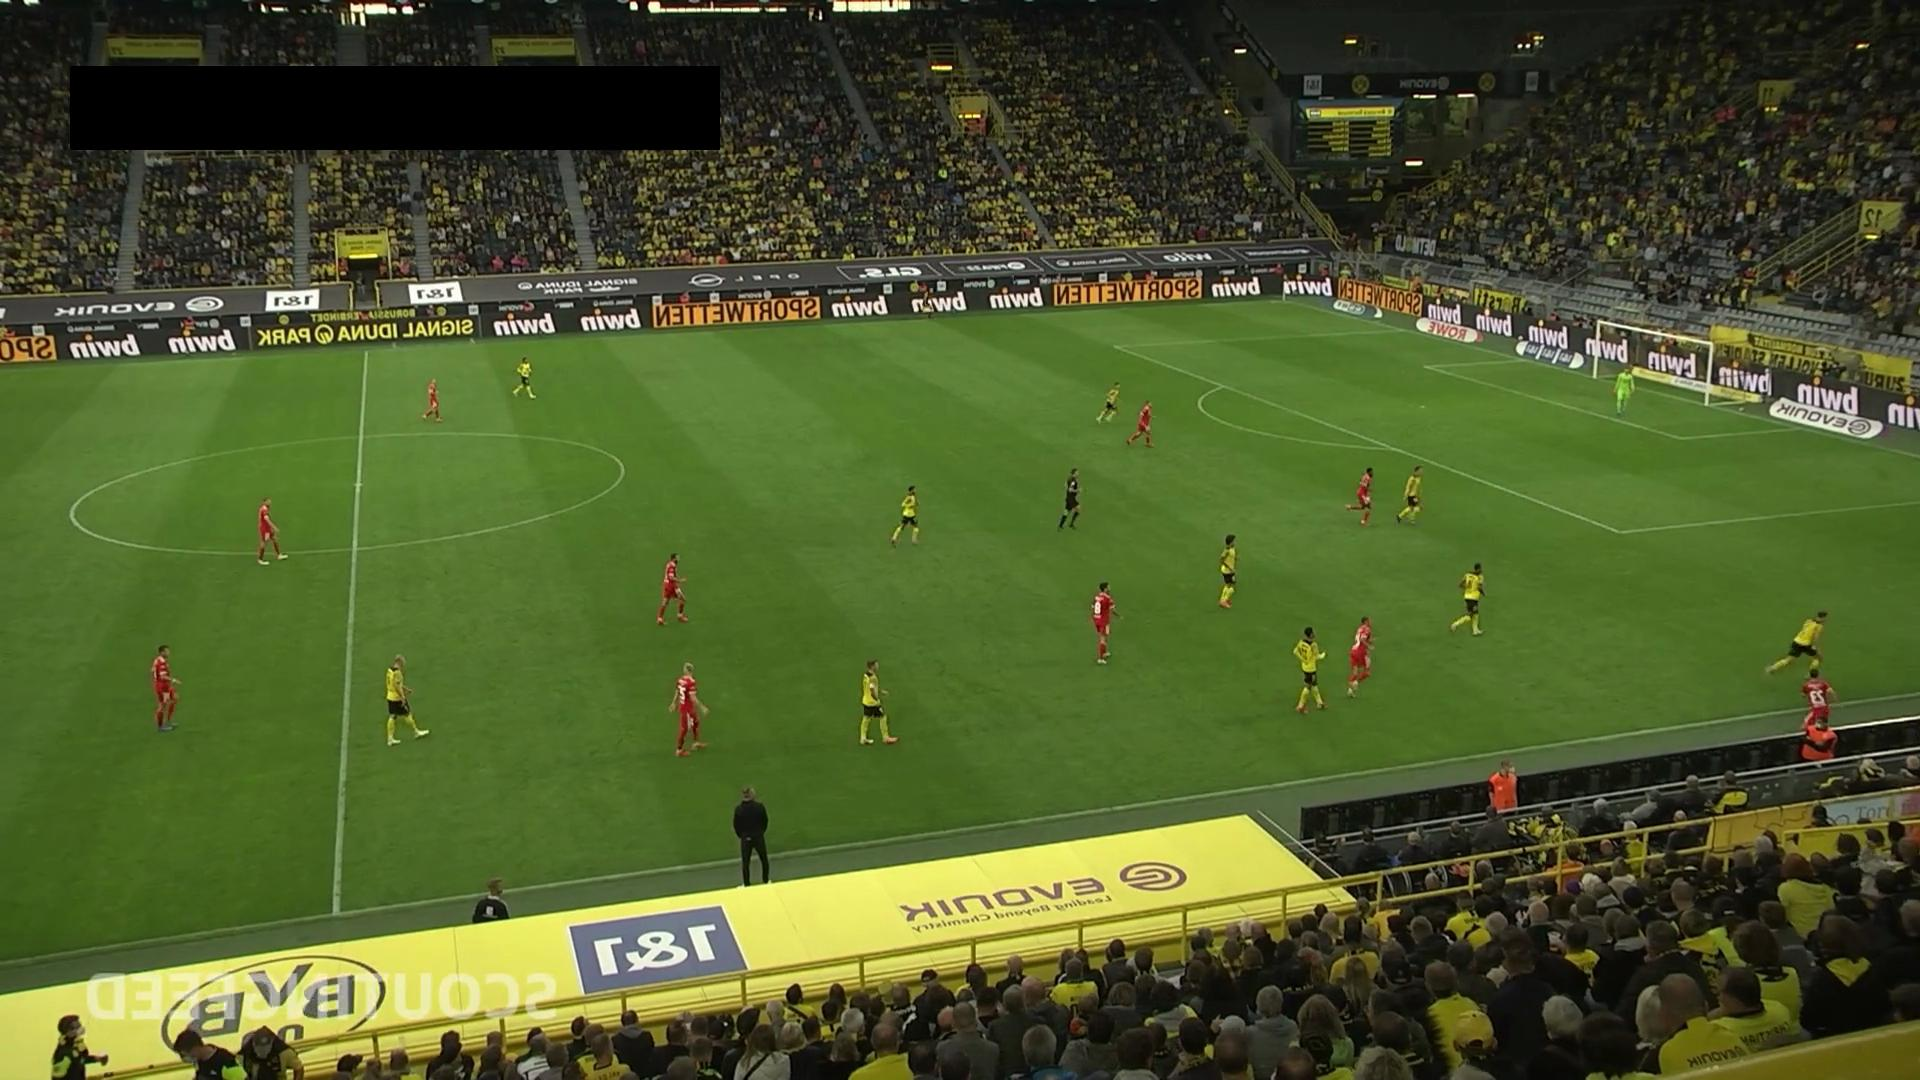goalkeeper: (1612, 364, 1636, 415)
player: (1764, 610, 1829, 676), (384, 654, 429, 747), (669, 662, 708, 757), (858, 659, 898, 746), (1292, 626, 1329, 715), (1798, 661, 1839, 730), (1449, 562, 1486, 637), (151, 645, 182, 732), (1091, 581, 1122, 665), (656, 553, 689, 625), (1346, 616, 1374, 698), (256, 496, 288, 565), (890, 485, 921, 548), (1396, 464, 1423, 525), (1217, 534, 1238, 609), (1351, 466, 1374, 527), (1126, 400, 1154, 449), (512, 355, 537, 399), (1096, 380, 1121, 423), (421, 378, 443, 422)
referee: (1057, 467, 1083, 531), (919, 282, 935, 321)
